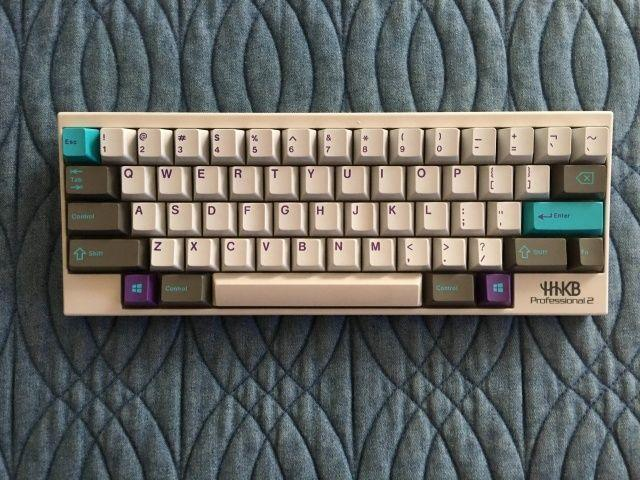keyboard: (57, 109, 613, 316)
